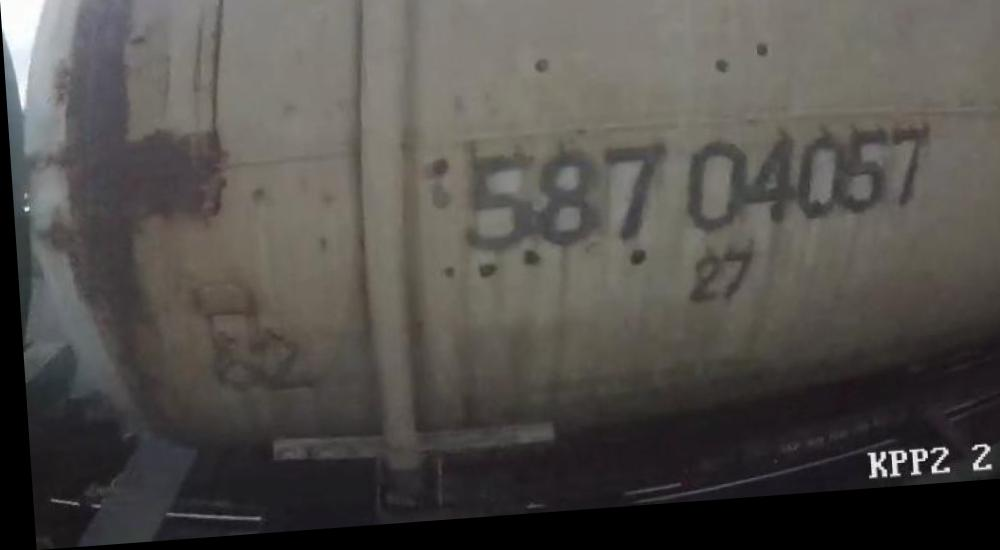Wagon-number: (452, 129, 931, 264)
